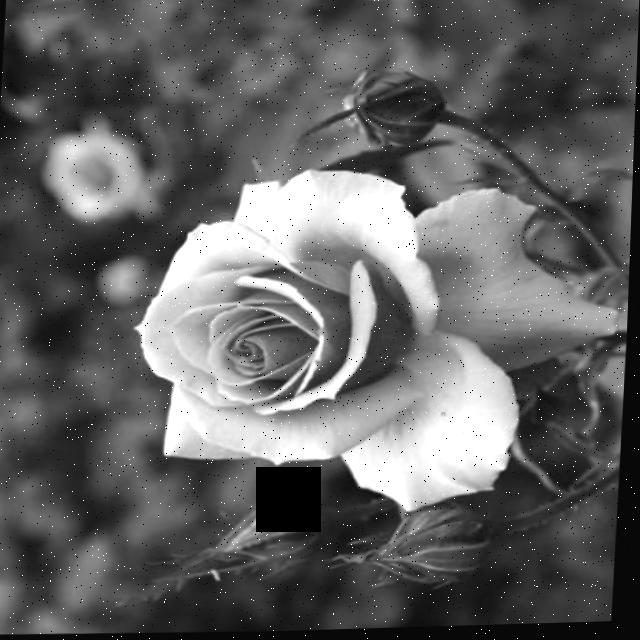rose: (98, 140, 599, 510)
